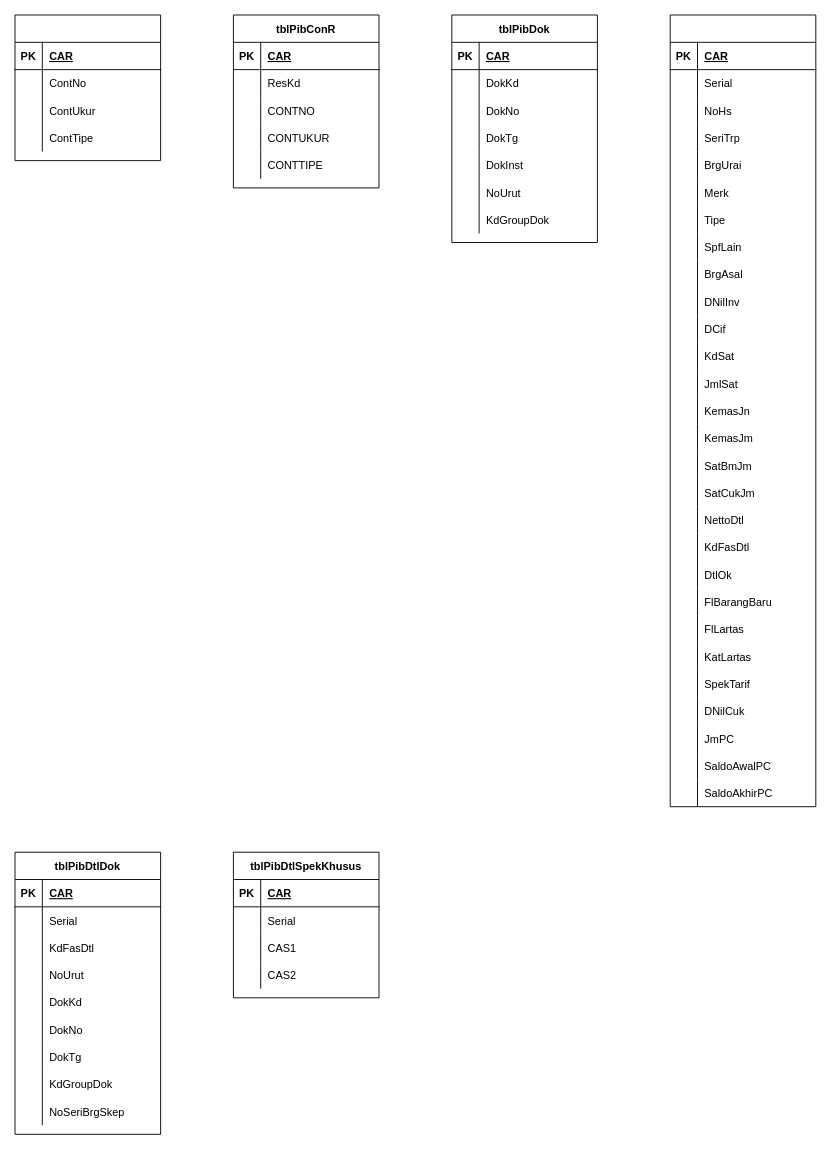
The diagram is 831 pixels wide and 1149 high, and some of its shapes have lost their labels. The shapes that lost their labels are listed below. From the top down, each one's box as (x1, y1, x2, y2) in pixels, then its label:
(14, 14, 161, 161): tblPibCon
(669, 14, 816, 807): tblPibDtl
